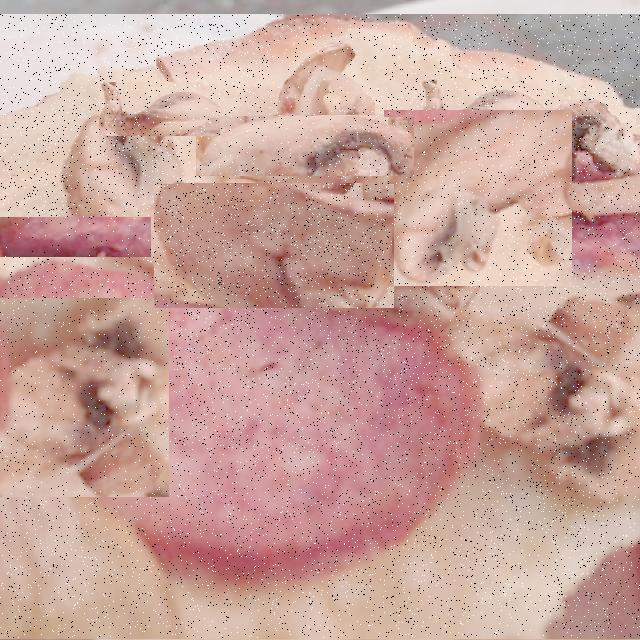Mushrooms: (0, 299, 169, 497), (384, 111, 572, 286), (154, 184, 394, 308), (0, 100, 180, 210), (196, 118, 414, 178), (270, 45, 375, 115), (99, 83, 220, 136)
Pepperoni: (161, 264, 640, 585), (0, 218, 151, 257)
Pizza: (0, 15, 640, 638)
